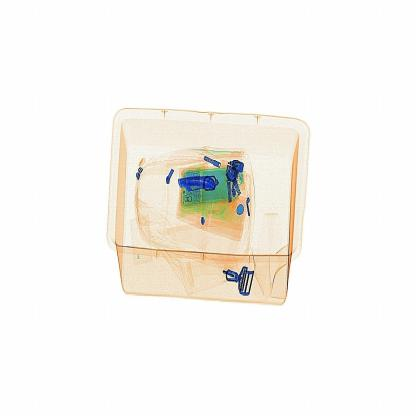knife: (173, 170, 222, 198)
